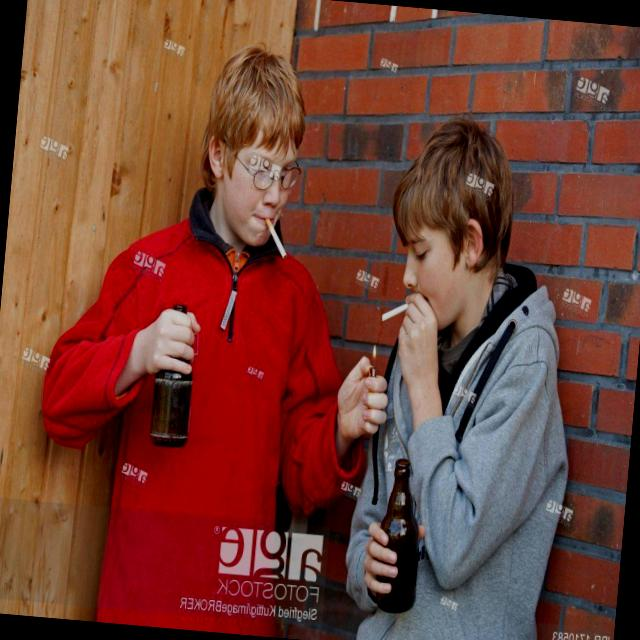smoke: (250, 202, 296, 279), (367, 284, 421, 342)
